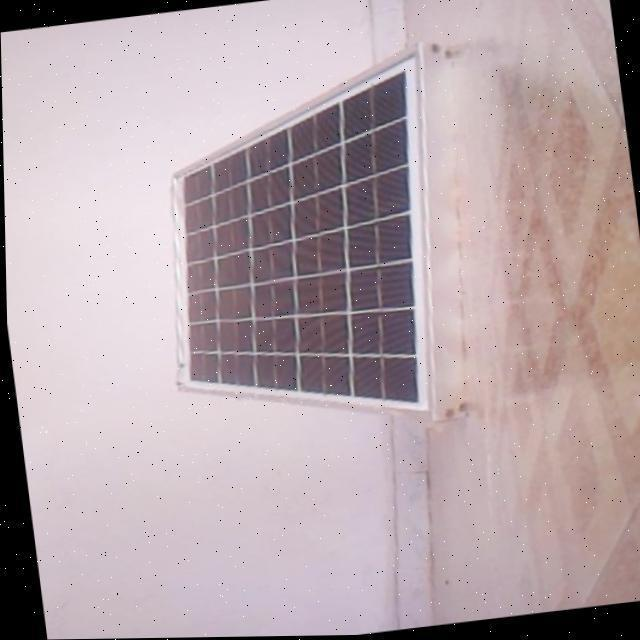Normal Solar Panel: (135, 39, 492, 452)
